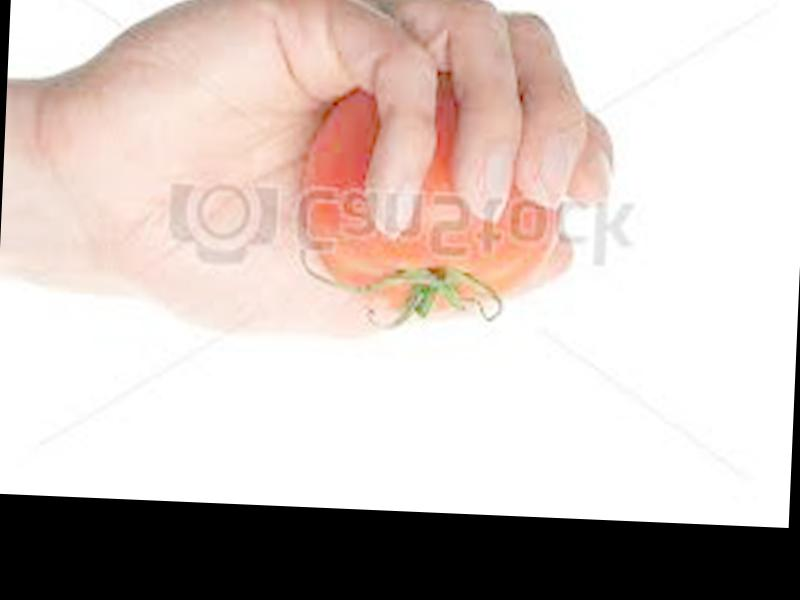Tomato: (303, 74, 565, 317)
